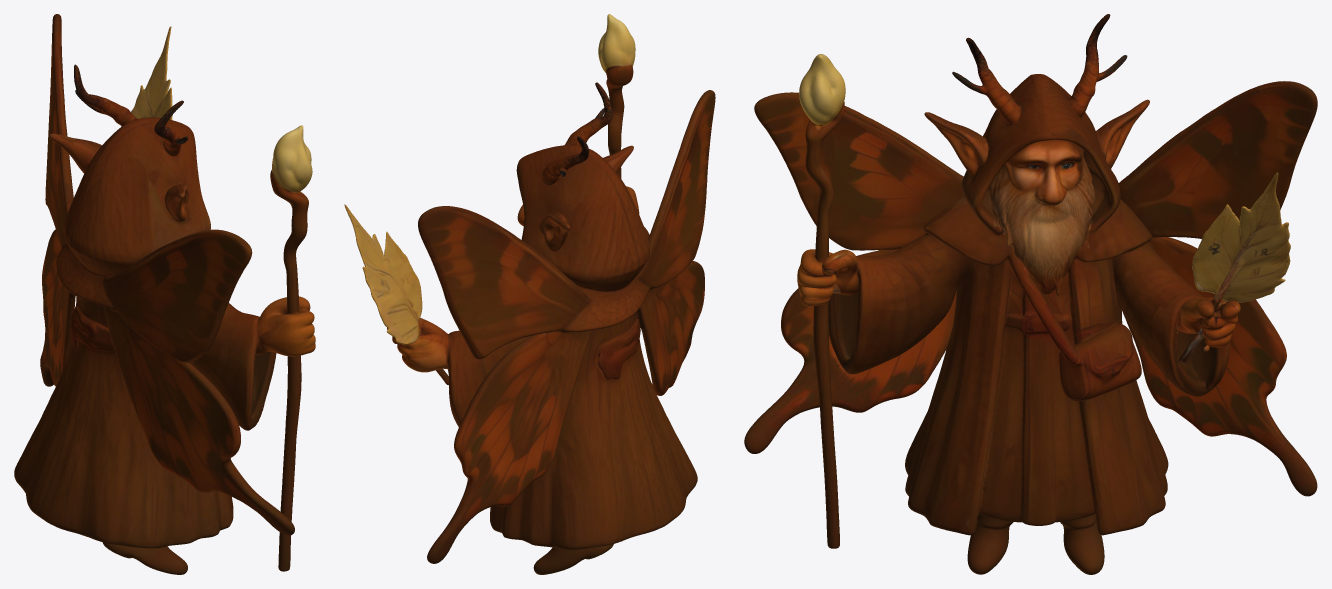
3 renders of one model, left to right at view 1: azimuth 30°, elevation 25°; view 2: azimuth 150°, elevation 25°; view 3: azimuth 270°, elevation 25°, orthographic. The views are drawn at different scales.
Visible parts, largest first — view 1: tripo_node_dddb788a-0dcf-4239-a1fa-a8580463b0d3; view 2: tripo_node_dddb788a-0dcf-4239-a1fa-a8580463b0d3; view 3: tripo_node_dddb788a-0dcf-4239-a1fa-a8580463b0d3.
Part boxes in pixels (x1,y1,x2,y2): tripo_node_dddb788a-0dcf-4239-a1fa-a8580463b0d3: (14, 14, 315, 574); tripo_node_dddb788a-0dcf-4239-a1fa-a8580463b0d3: (344, 14, 715, 574); tripo_node_dddb788a-0dcf-4239-a1fa-a8580463b0d3: (744, 14, 1317, 574).
Size of the model in its own units: 0.5124 by 1 by 0.9528.
Materials: 1 (1 with a texture image).
